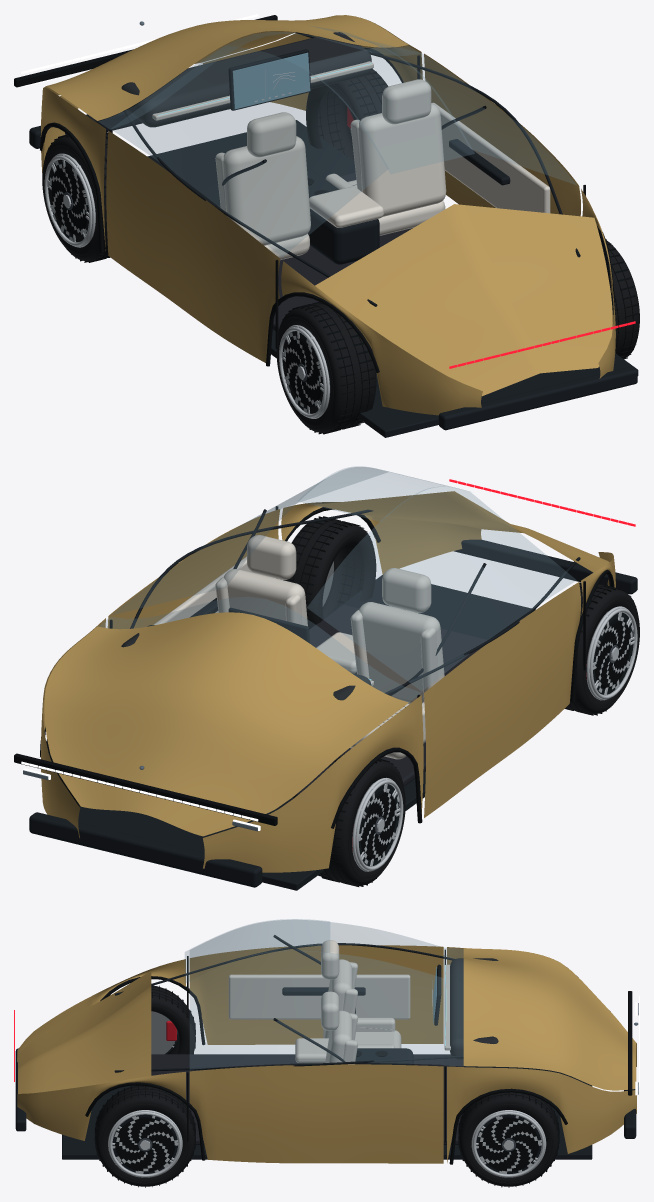
The model's file is cybercab.glb.
The picture shows the model from 3 angles, top to bottom: view 1: azimuth 30°, elevation 25°; view 2: azimuth 150°, elevation 25°; view 3: azimuth 270°, elevation 25°; orthographic projection. The views are drawn at different scales.
Parts seen in each view (by area): view 1: tailgate__exterior_paint, door_fl__glass, seat__interior_leather (×2), door_fl__exterior_paint, body__satin_trim, body__glass, body__exterior_paint, hood__exterior_paint, door_fr__exterior_paint, cabin__dashboard, door_fr__glass, wheel_rl__tire_rubber (+15 smaller); view 2: hood__exterior_paint, door_fl__glass, door_fl__exterior_paint, body__exterior_paint, body__satin_trim, seat__interior_leather (×2), body__glass, door_fr__glass, wheel_rr__tire_rubber, door_fr__exterior_paint, tailgate__exterior_paint, body__panel_seal (+10 smaller); view 3: door_fr__glass, door_fr__exterior_paint, hood__exterior_paint, body__exterior_paint, door_fl__exterior_paint, tailgate__exterior_paint, body__glass, door_fl__interior_leather, seat__interior_leather (×2), body__satin_trim, door_fl__glass, wheel_standard__panel_seal (×2) (+16 smaller).
Part boxes in pixels (x1=…): tailgate__exterior_paint: x1=315, y1=204, x2=612, y2=396; door_fl__glass: x1=111, y1=45, x2=388, y2=256; seat__interior_leather (×2): x1=215, y1=79, x2=446, y2=260; door_fl__exterior_paint: x1=106, y1=130, x2=280, y2=362; body__satin_trim: x1=29, y1=32, x2=638, y2=437; body__glass: x1=99, y1=32, x2=474, y2=173; body__exterior_paint: x1=40, y1=17, x2=615, y2=415; hood__exterior_paint: x1=45, y1=15, x2=408, y2=120; door_fr__exterior_paint: x1=424, y1=53, x2=580, y2=216; cabin__dashboard: x1=121, y1=32, x2=371, y2=127; door_fr__glass: x1=311, y1=26, x2=575, y2=184; wheel_rl__tire_rubber: x1=276, y1=302, x2=376, y2=432; hood__exterior_paint: x1=44, y1=612, x2=408, y2=836; door_fl__glass: x1=307, y1=487, x2=576, y2=690; door_fl__exterior_paint: x1=424, y1=582, x2=580, y2=817; body__exterior_paint: x1=40, y1=502, x2=615, y2=872; body__satin_trim: x1=29, y1=509, x2=637, y2=890; seat__interior_leather (×2): x1=215, y1=535, x2=444, y2=759; body__glass: x1=99, y1=466, x2=458, y2=701; door_fr__glass: x1=112, y1=467, x2=386, y2=614; wheel_rr__tire_rubber: x1=283, y1=518, x2=376, y2=628; door_fr__exterior_paint: x1=107, y1=509, x2=280, y2=629; tailgate__exterior_paint: x1=314, y1=491, x2=609, y2=572; body__panel_seal: x1=14, y1=506, x2=614, y2=828; door_fr__glass: x1=190, y1=951, x2=443, y2=1069; door_fr__exterior_paint: x1=189, y1=1064, x2=443, y2=1163; hood__exterior_paint: x1=463, y1=948, x2=636, y2=1090; body__exterior_paint: x1=17, y1=947, x2=636, y2=1162; door_fl__exterior_paint: x1=189, y1=945, x2=443, y2=1044; tailgate__exterior_paint: x1=18, y1=971, x2=151, y2=1093; body__glass: x1=185, y1=919, x2=463, y2=1065; door_fl__interior_leather: x1=228, y1=974, x2=410, y2=1019; seat__interior_leather (×2): x1=321, y1=940, x2=401, y2=1064; body__satin_trim: x1=15, y1=943, x2=636, y2=1159; door_fl__glass: x1=190, y1=920, x2=441, y2=957; wheel_standard__panel_seal (×2): x1=115, y1=1117, x2=538, y2=1171.
Bounding box in the file's own units: 1.9 × 1.43 × 4.13.
